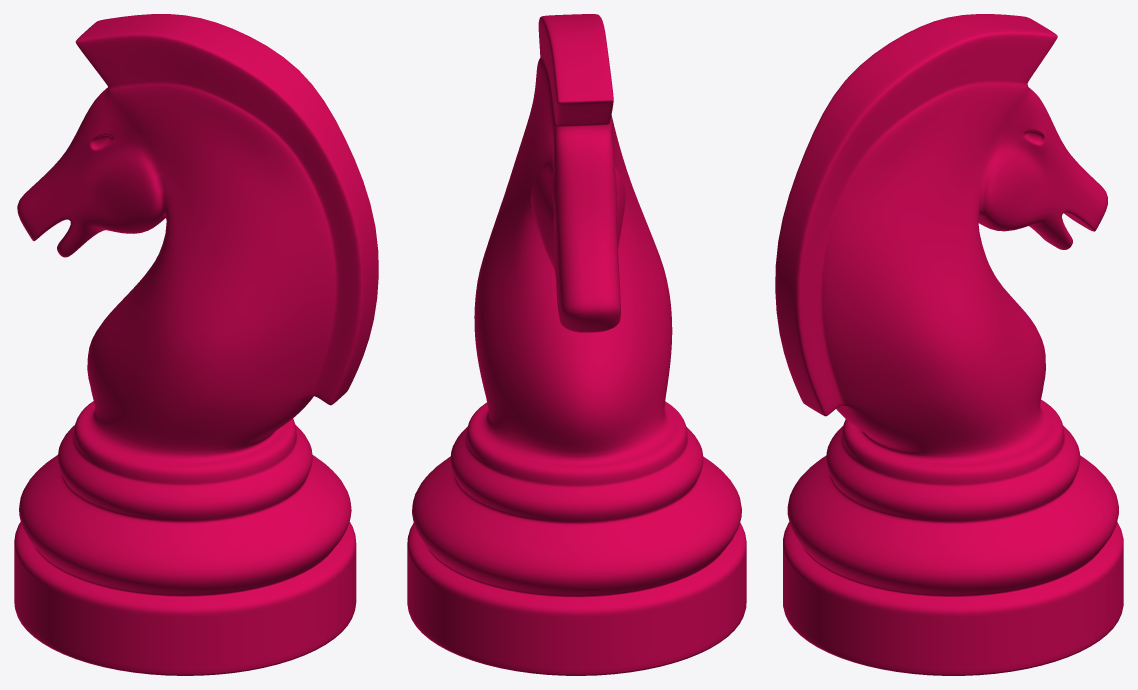
File: red_horse.glb
The picture shows the model from 3 angles, left to right: view 1: azimuth 30°, elevation 25°; view 2: azimuth 150°, elevation 25°; view 3: azimuth 270°, elevation 25°; orthographic projection.
Parts seen in each view (by area): view 1: High_Poly_White_Knight_001__1_; view 2: High_Poly_White_Knight_001__1_; view 3: High_Poly_White_Knight_001__1_.
Boxes of the visible parts, left/top/right/bottom form: High_Poly_White_Knight_001__1_: left=14, top=14, right=378, bottom=675; High_Poly_White_Knight_001__1_: left=407, top=14, right=746, bottom=675; High_Poly_White_Knight_001__1_: left=775, top=14, right=1123, bottom=675.
Size of the model in its own units: 0.3479 by 0.6484 by 0.3556.
